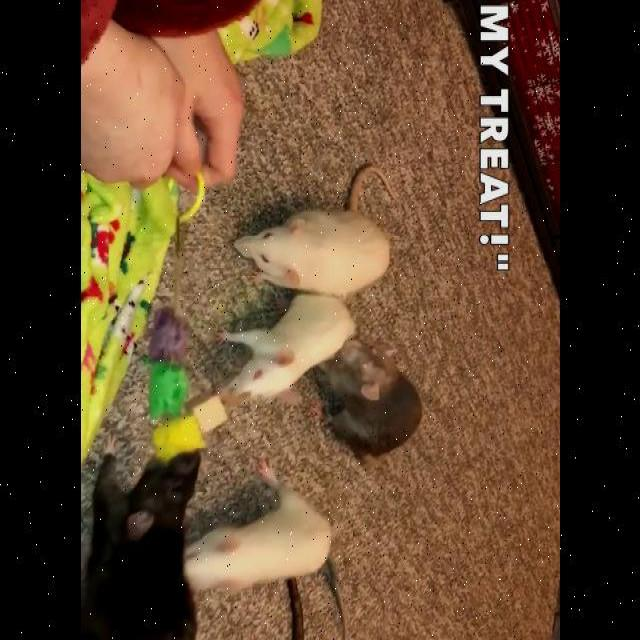rat: (80, 452, 200, 640), (234, 166, 395, 294), (185, 466, 334, 593), (215, 294, 355, 398), (318, 338, 422, 466)
